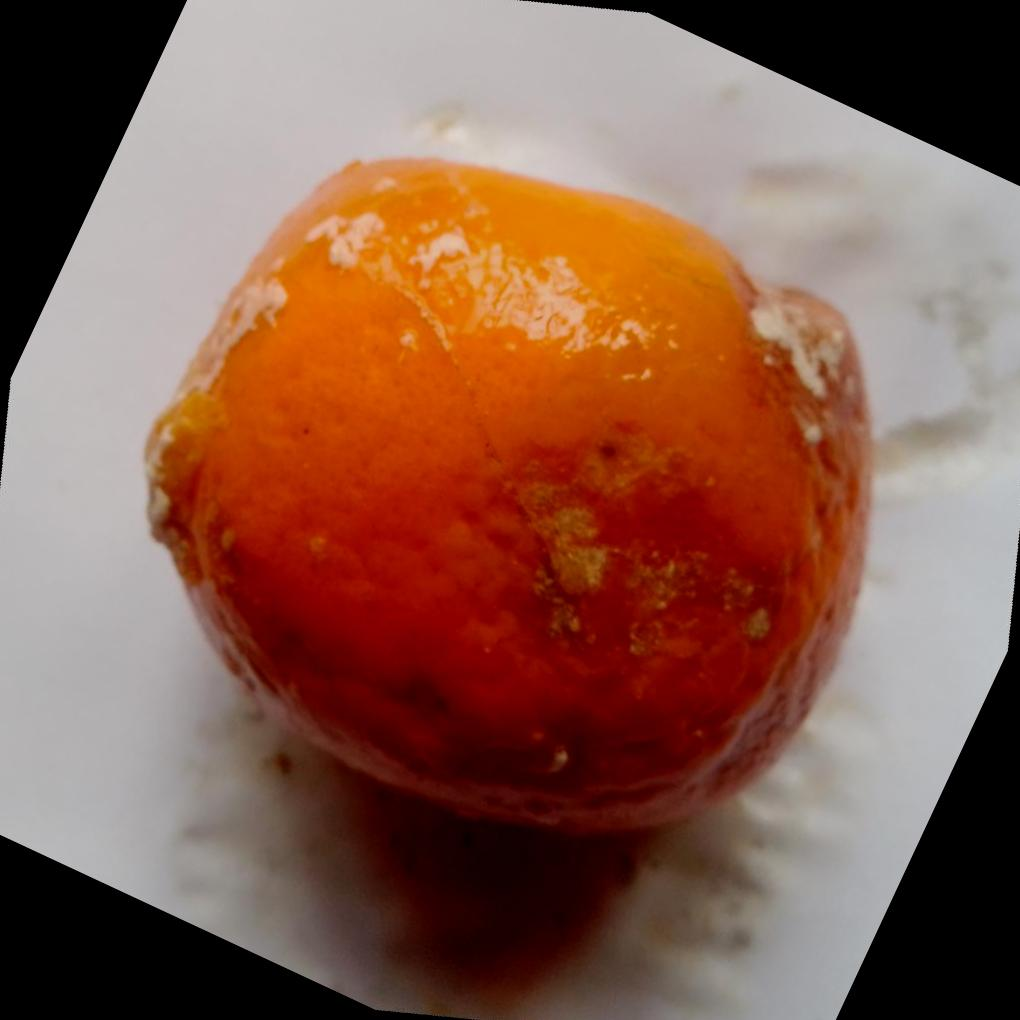FreshOrange: (141, 150, 877, 838)
